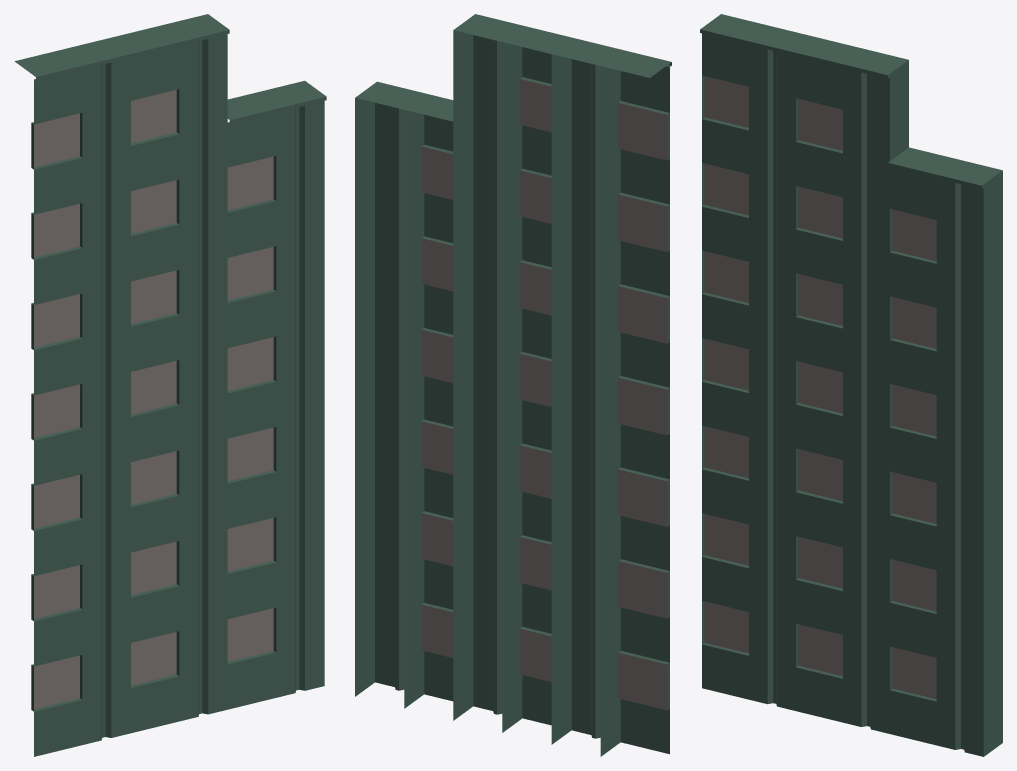
3 renders of one model, left to right at view 1: azimuth 30°, elevation 25°; view 2: azimuth 150°, elevation 25°; view 3: azimuth 330°, elevation 25°, orthographic. The views are drawn at different scales.
Visible parts, largest first — view 1: Column.033; view 2: Column.033; view 3: Column.033.
Boxes of the visible parts, left/top/right/bottom form: Column.033: left=14, top=14, right=326, bottom=756; Column.033: left=355, top=14, right=671, bottom=756; Column.033: left=700, top=14, right=1002, bottom=756.
Bounding box in the file's own units: 1671 × 3742 × 217.
